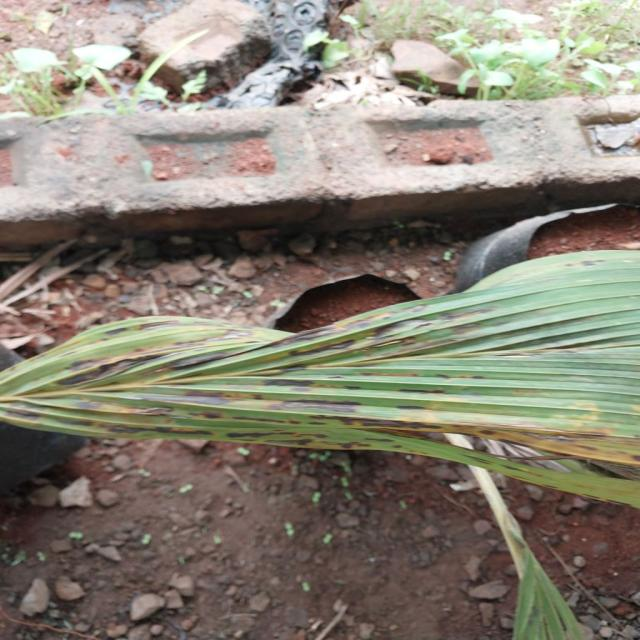gray leaf spot: (0, 281, 640, 505)
